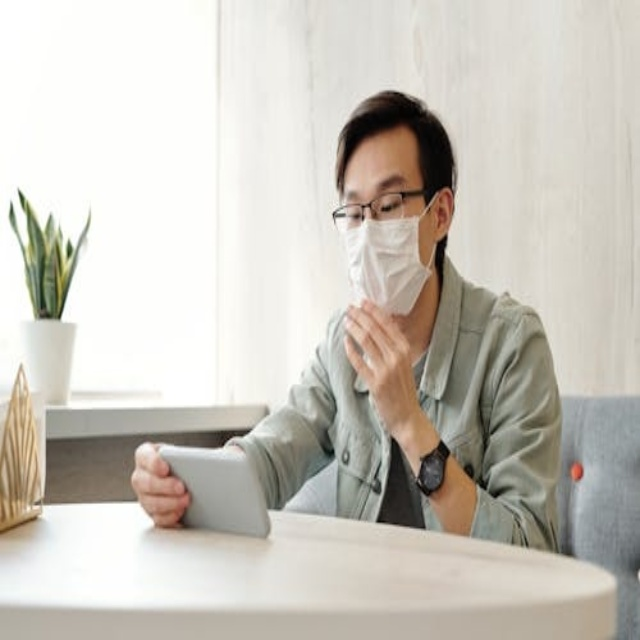Gafas: (333, 185, 437, 230)
Mascara: (343, 192, 439, 317)
Sin_guantes: (342, 300, 425, 435), (129, 443, 191, 528)
